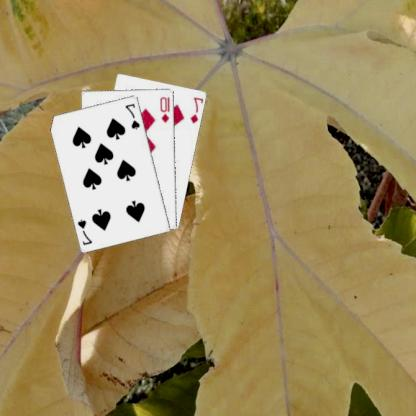10D: (160, 94, 173, 124)
7D: (190, 94, 206, 125)
7S: (77, 216, 96, 247), (125, 101, 144, 130)
